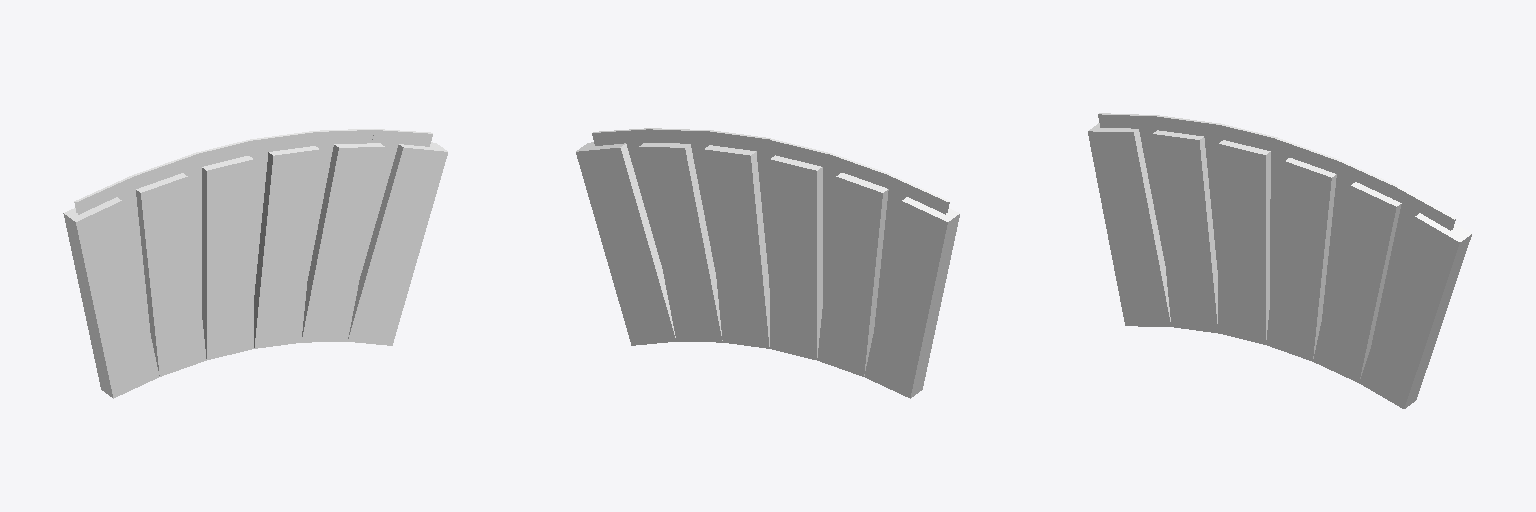
File: lime_mortar_orange_clay_brick_facade_round_arch_3_middle_bottom.obj
3 views of the same model, side by side, from view 1: azimuth 30°, elevation 25°; view 2: azimuth 150°, elevation 25°; view 3: azimuth 330°, elevation 25° (orthographic).
Visible parts, largest first — view 1: cube.076, cube.093, cube.071, cube.072, cube.078, cube.077, cube.079, cube.074, cube.080, cube.073, cube.108, cube.075; view 2: cube.076, cube.093, cube.072, cube.071, cube.078, cube.077, cube.079, cube.075, cube.073, cube.074, cube.108, cube.080; view 3: cube.093, cube.076, cube.078, cube.077, cube.072, cube.071, cube.108, cube.073, cube.074, cube.080, cube.079, cube.075.
Part boxes in pixels (bbox=[...]): cube.076: bbox=[63, 197, 159, 398]; cube.093: bbox=[348, 142, 447, 345]; cube.071: bbox=[301, 143, 384, 342]; cube.072: bbox=[254, 146, 319, 348]; cube.078: bbox=[202, 156, 253, 359]; cube.077: bbox=[136, 173, 206, 376]; cube.079: bbox=[74, 175, 150, 333]; cube.074: bbox=[254, 131, 315, 294]; cube.080: bbox=[134, 154, 201, 309]; cube.073: bbox=[307, 129, 374, 280]; cube.108: bbox=[360, 129, 432, 275]; cube.075: bbox=[193, 139, 254, 208]; cube.076: bbox=[864, 197, 959, 398]; cube.093: bbox=[576, 142, 675, 345]; cube.072: bbox=[704, 145, 769, 348]; cube.071: bbox=[639, 143, 722, 342]; cube.078: bbox=[770, 155, 822, 359]; cube.077: bbox=[817, 173, 888, 376]; cube.079: bbox=[874, 174, 949, 328]; cube.075: bbox=[769, 139, 830, 298]; cube.073: bbox=[650, 128, 715, 271]; cube.074: bbox=[709, 130, 770, 273]; cube.108: bbox=[592, 128, 661, 264]; cube.080: bbox=[830, 153, 889, 230]; cube.093: bbox=[1359, 213, 1471, 408]; cube.076: bbox=[1088, 123, 1170, 326]; cube.078: bbox=[1218, 140, 1270, 344]; cube.077: bbox=[1153, 130, 1217, 332]; cube.072: bbox=[1266, 158, 1336, 361]; cube.071: bbox=[1313, 182, 1401, 382]; cube.108: bbox=[1371, 186, 1455, 345]; cube.073: bbox=[1322, 159, 1397, 316]; cube.074: bbox=[1270, 138, 1337, 300]; cube.080: bbox=[1157, 115, 1218, 269]; cube.079: bbox=[1098, 113, 1164, 260]; cube.075: bbox=[1217, 123, 1277, 189].
Size of the model in its own units: 1.23 by 0.7413 by 0.0716.